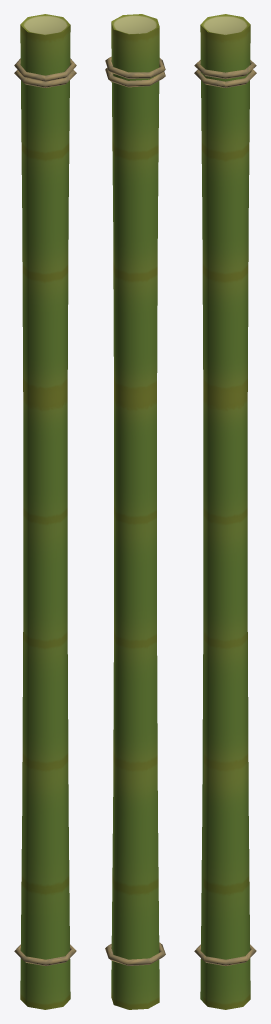
The model's file is Bamboo_10.fbx.
3 renders of one model, left to right at view 1: azimuth 90°, elevation 25°; view 2: azimuth 210°, elevation 25°; view 3: azimuth 270°, elevation 25°, orthographic.
Parts seen in each view (by area): view 1: Bamboo_10_LOD0; view 2: Bamboo_10_LOD0; view 3: Bamboo_10_LOD0.
Boxes of the visible parts, bbox=[...] form: Bamboo_10_LOD0: bbox=[14, 14, 76, 1009]; Bamboo_10_LOD0: bbox=[105, 14, 165, 1009]; Bamboo_10_LOD0: bbox=[194, 14, 256, 1009].
Size of what is drawn, in the model's own units: 17.53 by 300 by 17.53.
